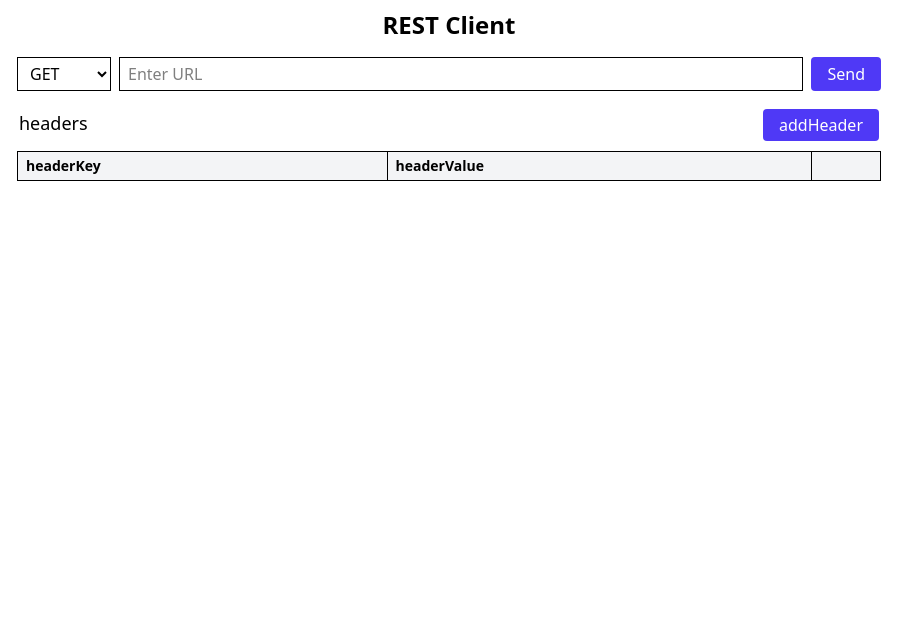
it: RestClientForm › успешно отправляет запрос
Type "https://api.test.com" into the search field with placeholder "Enter URL". click: point(461, 74)
box: [119,57,804,91]
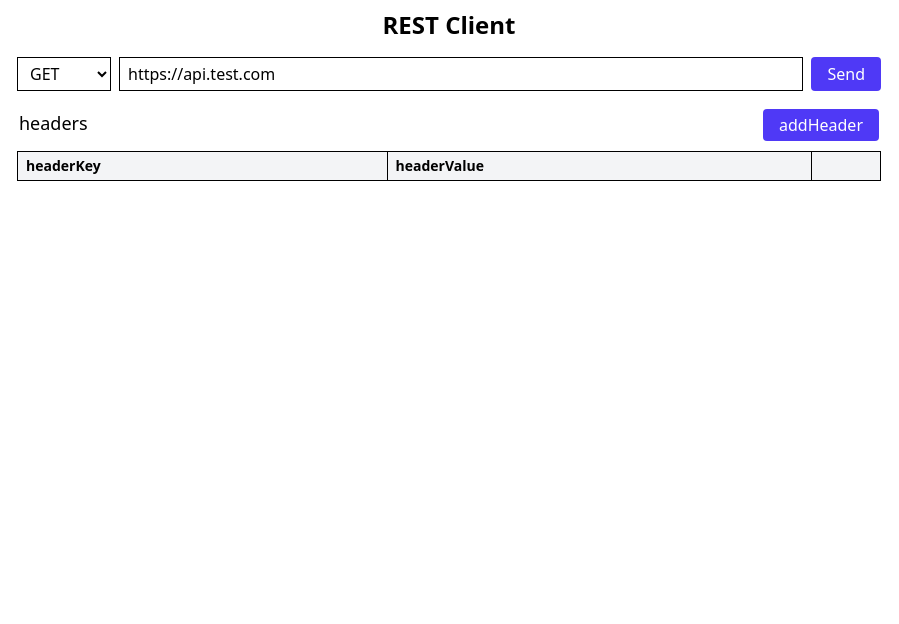
Click the button "Send". click: point(846, 74)
box: [812,57,881,91]
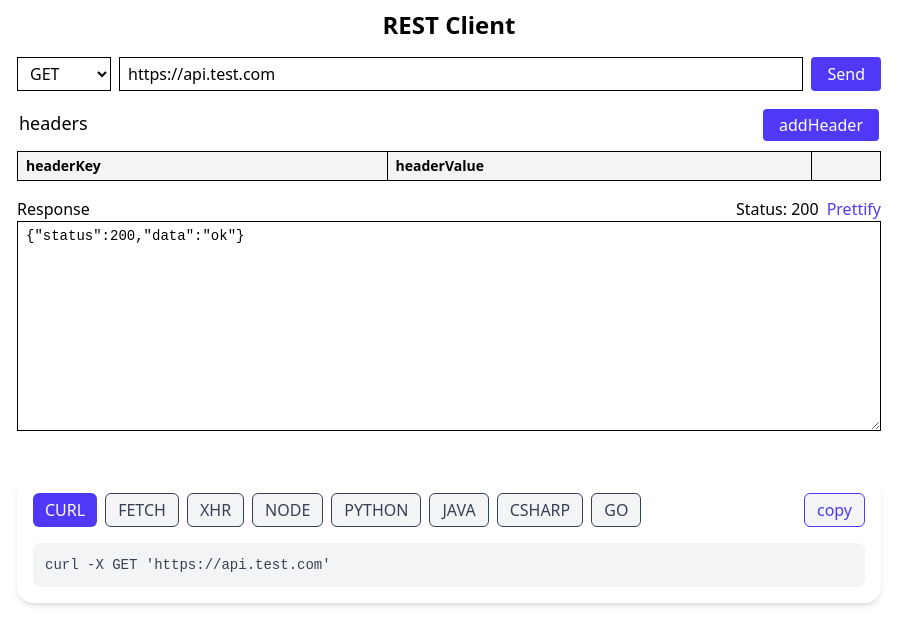
Now the button "Prettify" is shown, box [827,197,881,221]
